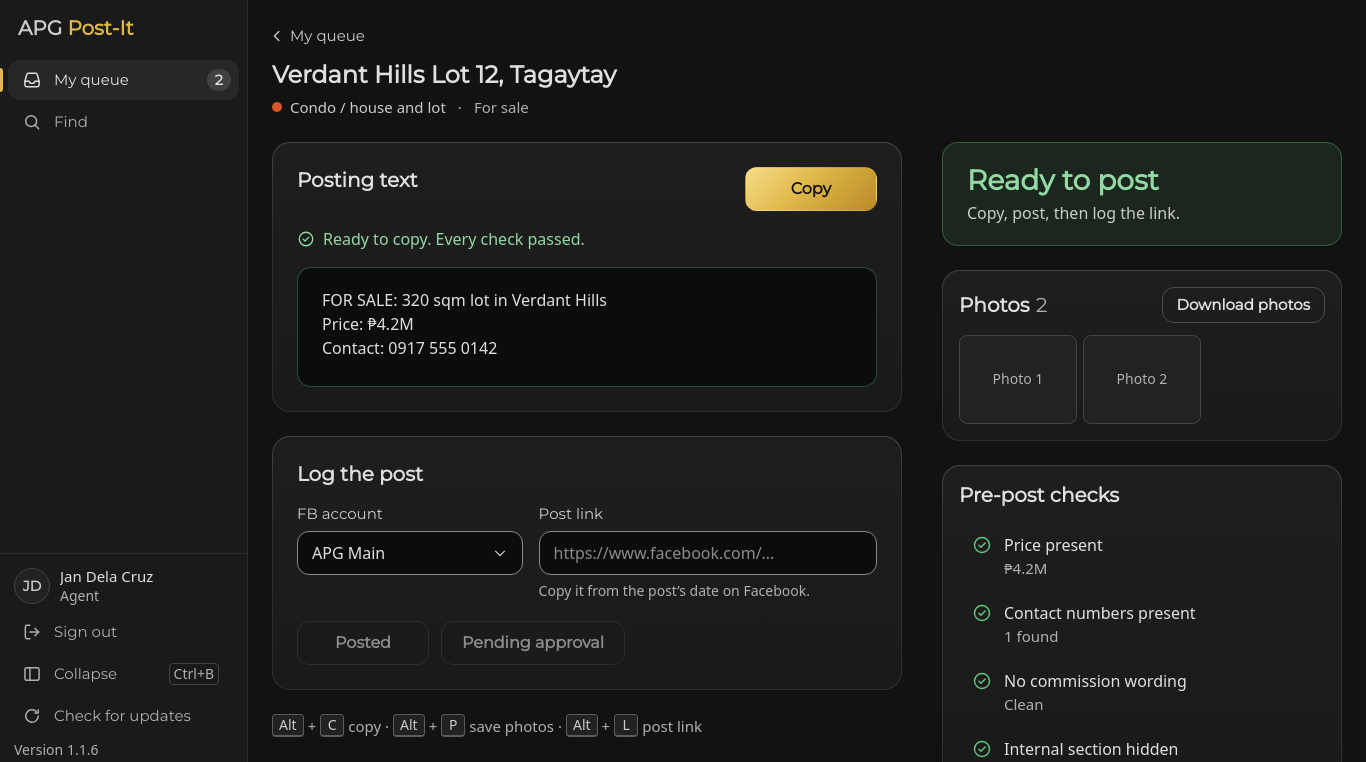
the log step › opens the next listing in the queue once saved
This screenshot has width=1366, height=762.
Check: the heading "Verdant Hills Lot 12, Tagaytay" is shown, box [272,60,616,89]
Type "https://www.facebook.com/groups/apgmain/posts/1029384801/" into the field labelled "Post link" at (708, 553), box [539,531,877,575]
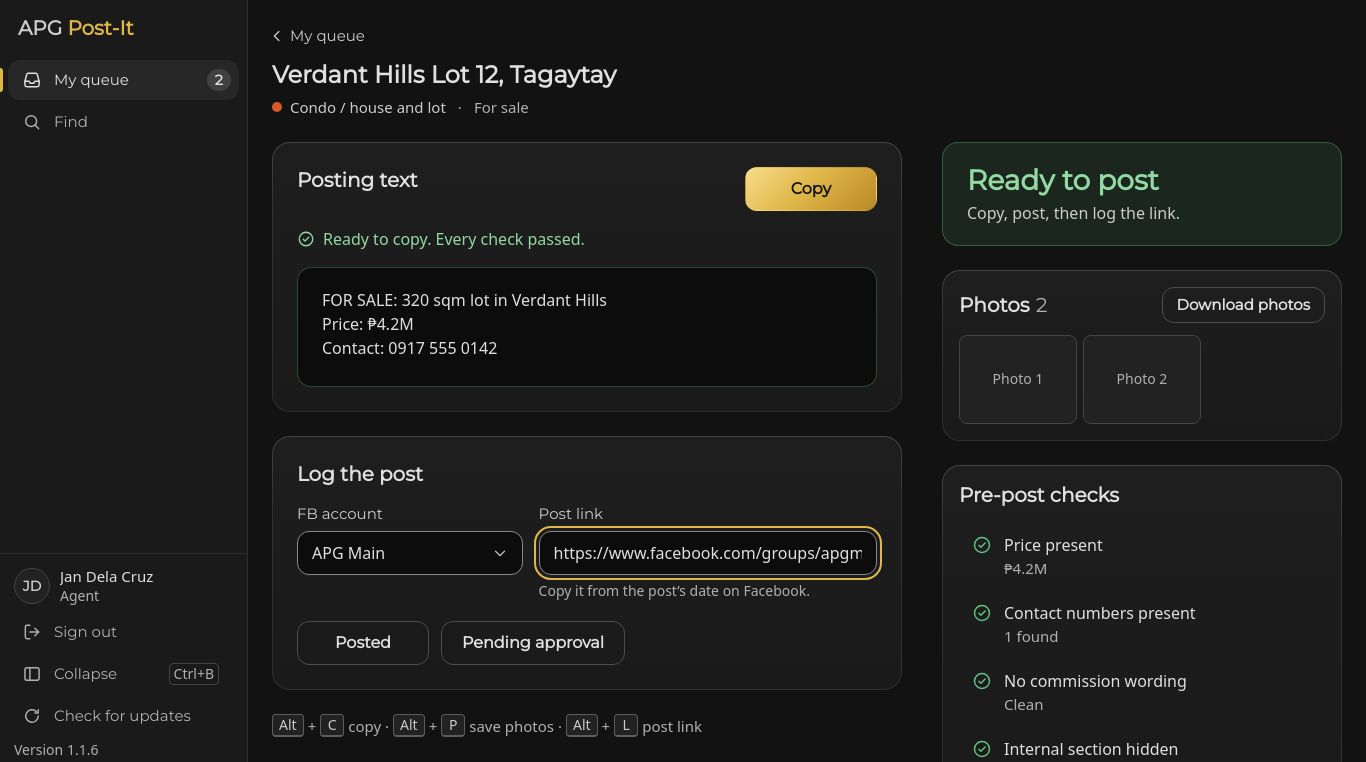
Click the button "Posted" at (363, 643), box [297,621,429,665]
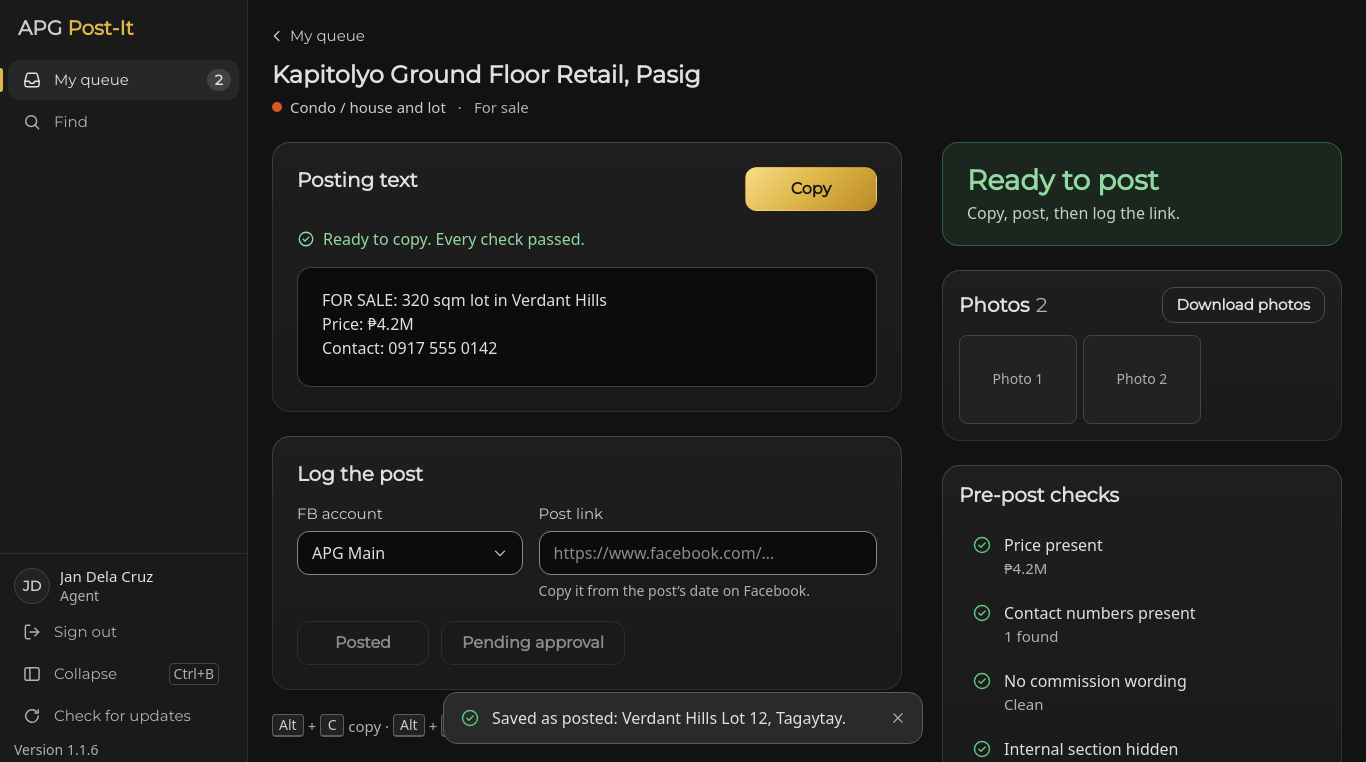
Check: the link "My queue" is shown, box [268,24,369,48]
Check: the heading "Kapitolyo Ground Floor Retail, Pasig" is shown, box [272,60,701,89]
Check: the field labelled "Post link" is empty, box [539,531,877,575]
